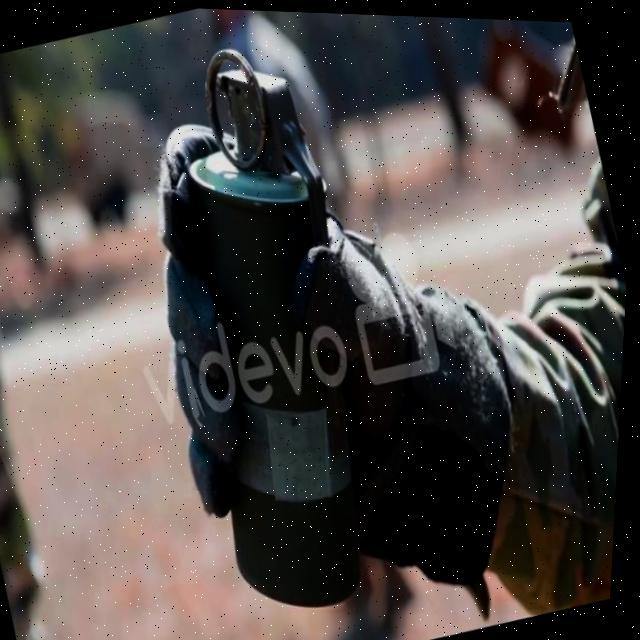grenade: (99, 16, 439, 631)
